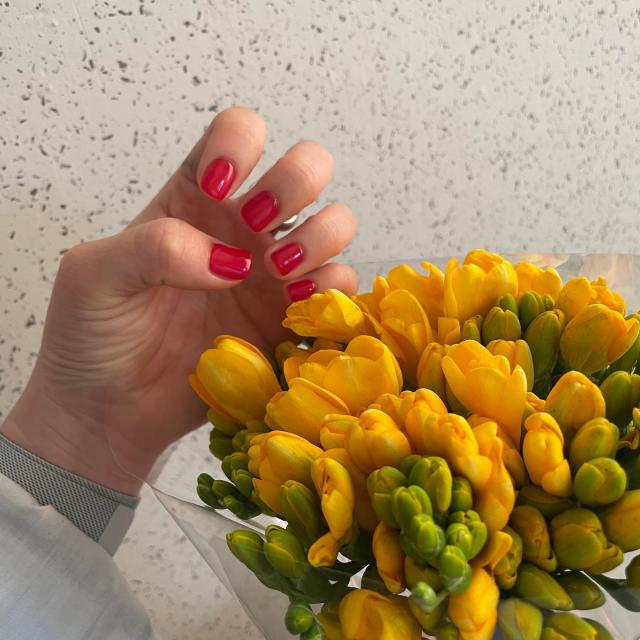Nail: (209, 244, 253, 281), (241, 191, 280, 232), (200, 158, 236, 201), (270, 242, 305, 276), (286, 279, 316, 302)
